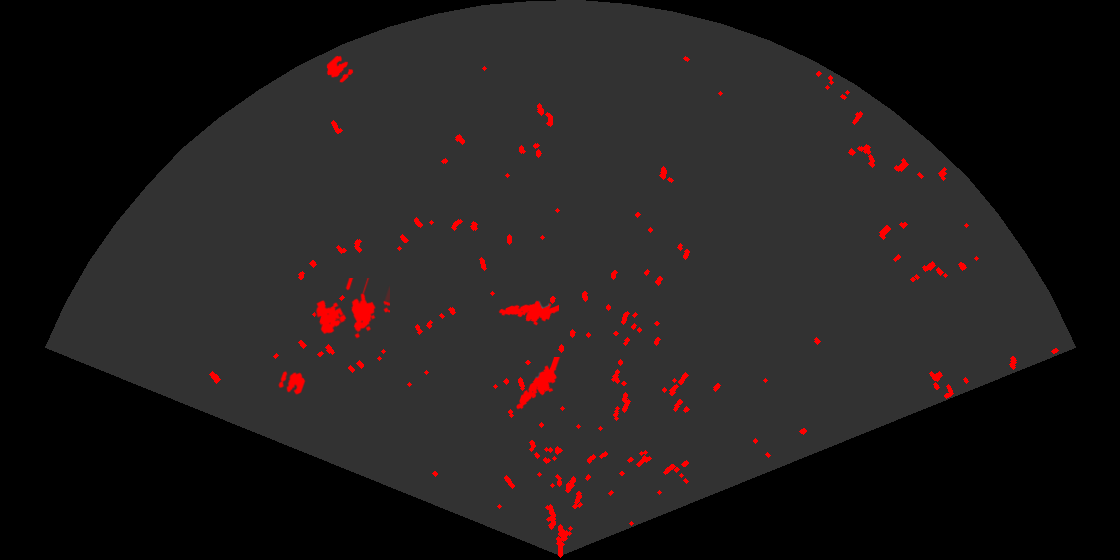ball: (325, 54, 355, 84), (277, 369, 307, 396)
cage: (314, 278, 390, 340)
frogman: (513, 357, 562, 420), (497, 299, 559, 327)
